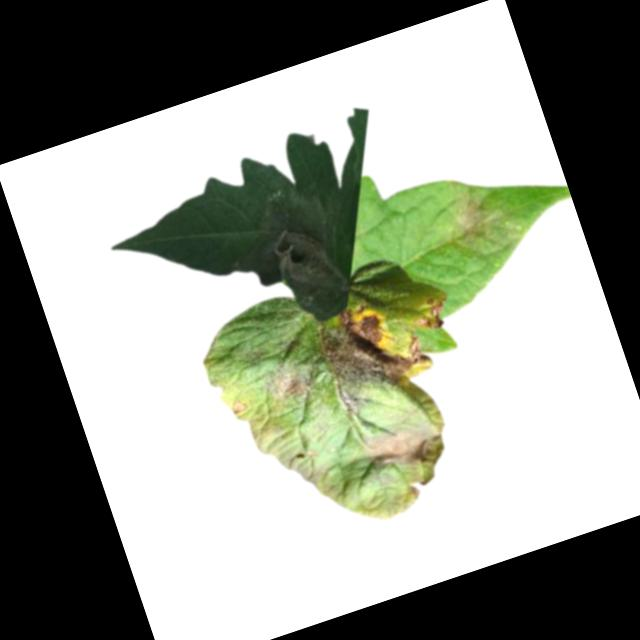Late_blight: (313, 289, 435, 421), (361, 413, 449, 483), (268, 217, 341, 294), (272, 438, 334, 495), (449, 190, 505, 252), (263, 357, 322, 408), (407, 292, 454, 333), (230, 398, 251, 416)
